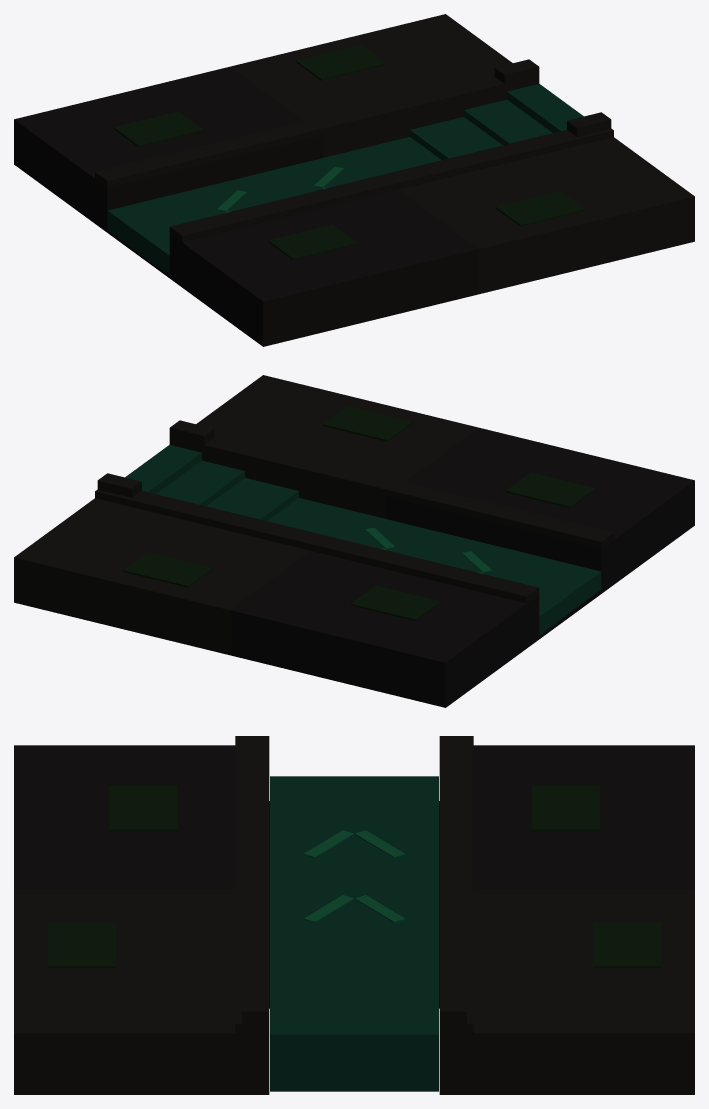
The model's file is SM_Hide_Channel_End_2x2.glb.
3 views of the same model, one above another, from view 1: azimuth 30°, elevation 25°; view 2: azimuth 150°, elevation 25°; view 3: azimuth 270°, elevation 25° (orthographic). The views are drawn at different scales.
Parts seen in each view (by area): view 1: SM_Hide_Channel_End_2x2-col; view 2: SM_Hide_Channel_End_2x2-col; view 3: SM_Hide_Channel_End_2x2-col.
Part boxes in pixels (left/top/right/bottom): SM_Hide_Channel_End_2x2-col: left=14, top=14, right=694, bottom=346; SM_Hide_Channel_End_2x2-col: left=14, top=375, right=694, bottom=707; SM_Hide_Channel_End_2x2-col: left=14, top=736, right=694, bottom=1094.
Bounding box in the file's own units: 2 × 0.27 × 2.
